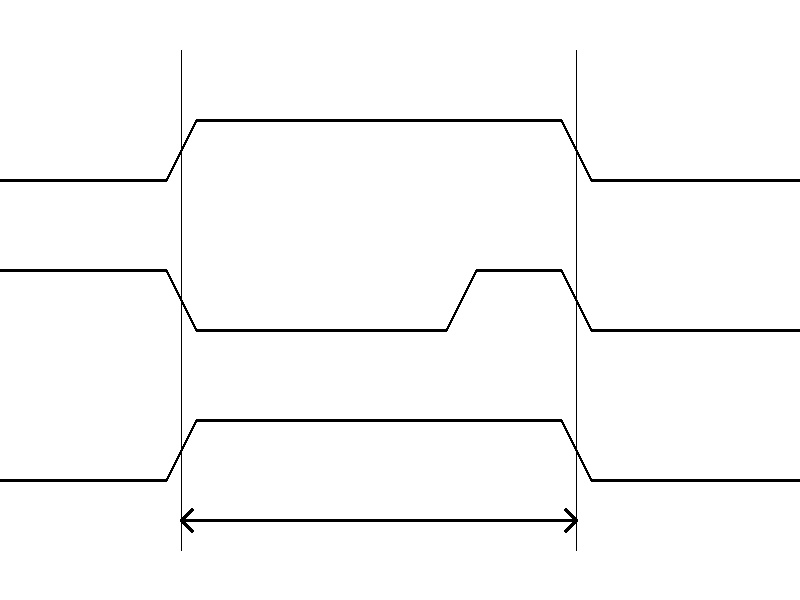double_arrow: (181, 505, 576, 535)
